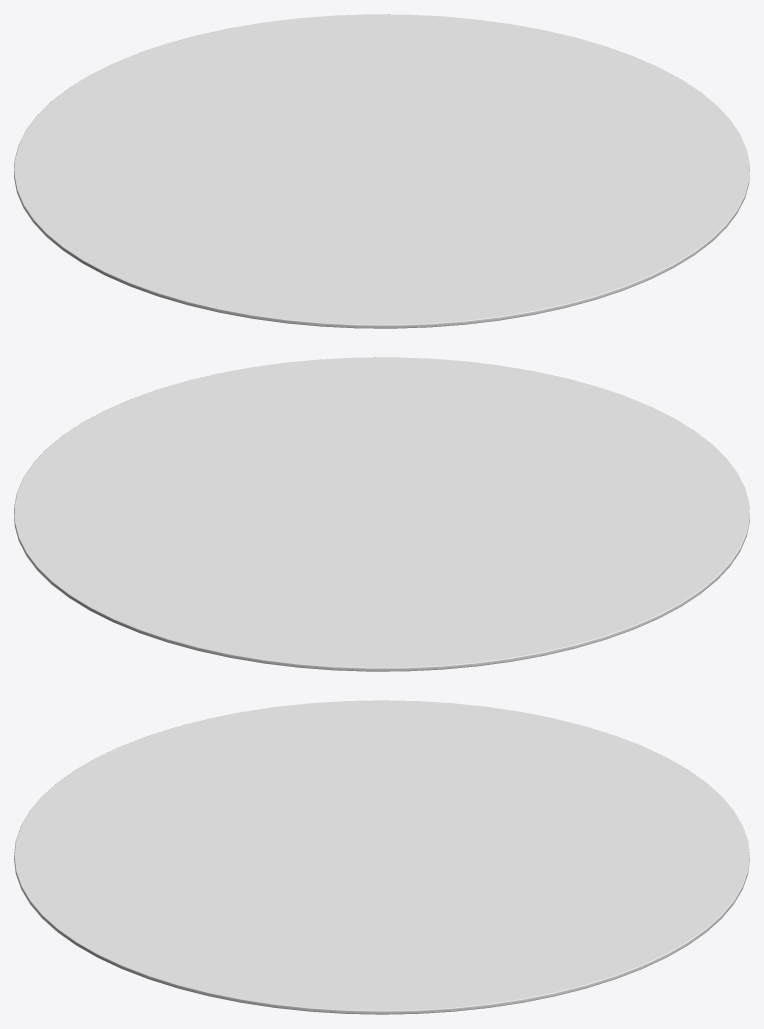
Rendered from round-rug-v1.glb.
The picture shows the model from 3 angles, top to bottom: view 1: azimuth 30°, elevation 25°; view 2: azimuth 150°, elevation 25°; view 3: azimuth 270°, elevation 25°; orthographic projection.
Visible parts, largest first — view 1: Round woven rug; view 2: Round woven rug; view 3: Round woven rug.
Part boxes in pixels (box(x1,y1,x2,y2)): Round woven rug: box(14, 14, 749, 328); Round woven rug: box(14, 357, 749, 671); Round woven rug: box(14, 700, 749, 1014).
Size of the model in its own units: 3.76 by 0.022 by 3.76.
1 material, 1 textured.
